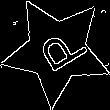P_SW: (26, 22, 87, 80)
